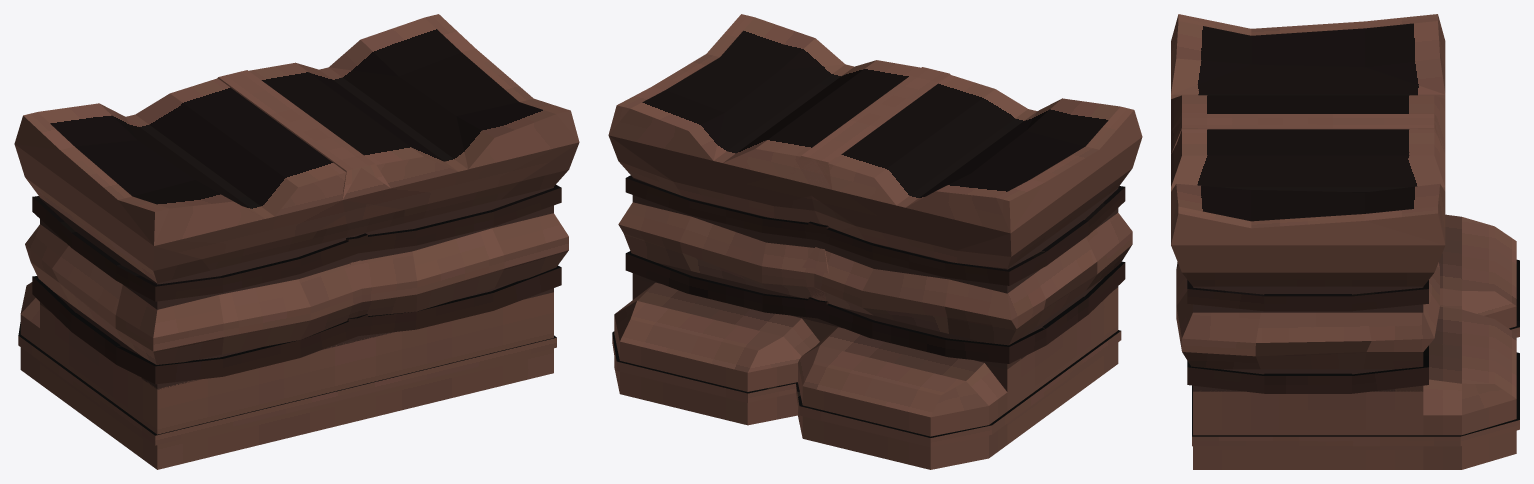
3 renders of one model, left to right at view 1: azimuth 30°, elevation 25°; view 2: azimuth 150°, elevation 25°; view 3: azimuth 270°, elevation 25°, orthographic. The views are drawn at different scales.
Visible parts, largest first — view 1: left_leg, right_leg; view 2: left_leg, right_leg; view 3: right_leg, left_leg.
Part boxes in pixels (x1=…): left_leg: x1=14, y1=70, x2=390, y2=469; right_leg: x1=217, y1=14, x2=579, y2=422; left_leg: x1=791, y1=67, x2=1142, y2=469; right_leg: x1=608, y1=14, x2=950, y2=425; right_leg: x1=1171, y1=114, x2=1519, y2=469; left_leg: x1=1171, y1=14, x2=1519, y2=337.
Size of the model in its own units: 0.55 by 0.3281 by 0.3974.
1 material, 1 textured.
